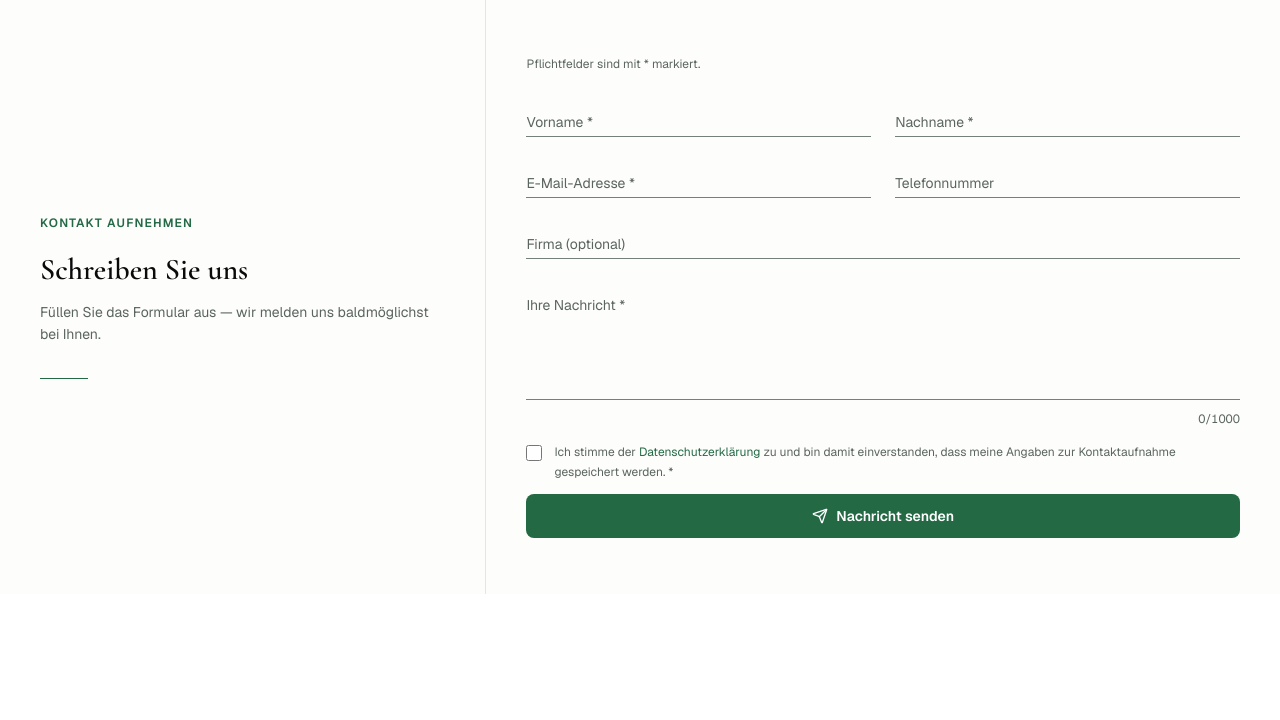
Test case: ContactForm › shows consent validation error when checkbox is unchecked
The width and height of the screenshot is (1280, 720).
Type "Anna" into the field labelled "Vorname *".
click(699, 116); type("Anna")  # box [526,96,871,137]
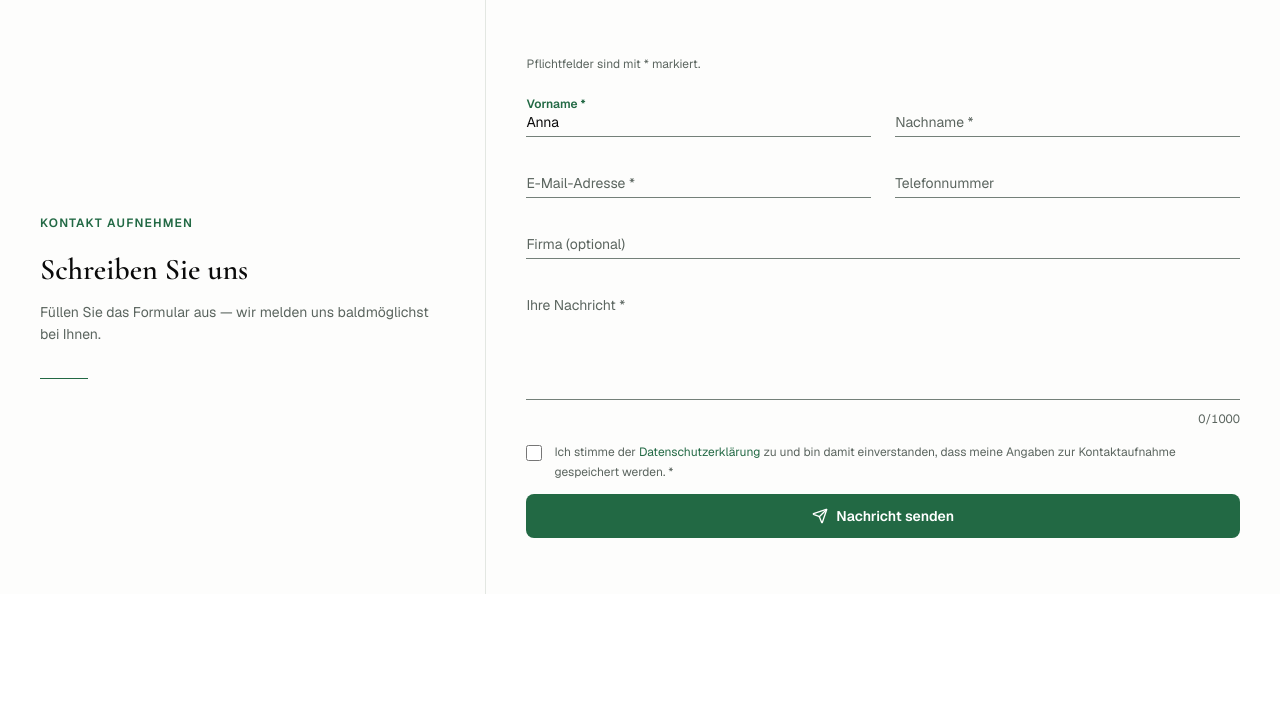
Type "Müller" into the field labelled "Nachname *".
click(1068, 116); type("Müller")  # box [895,96,1240,137]
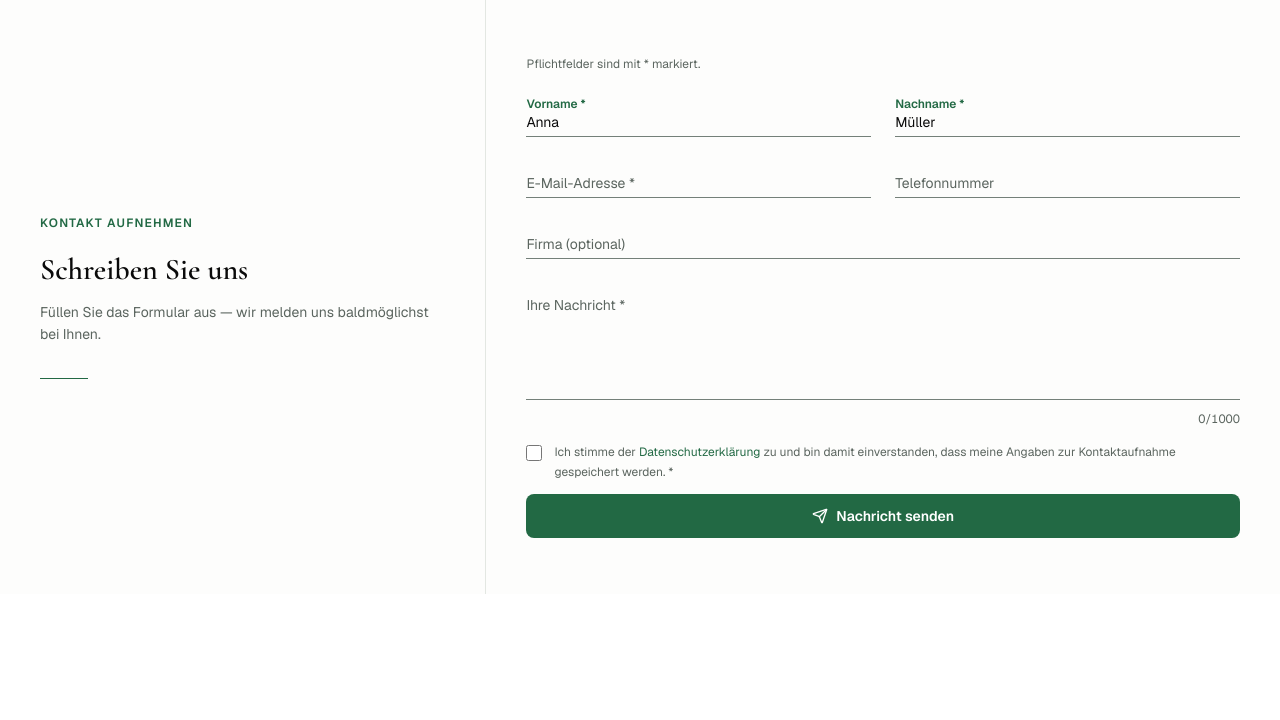
Type "anna@example.de" into the field labelled "E-Mail-Adresse *".
click(699, 178); type("anna@example.de")  # box [526,157,871,198]
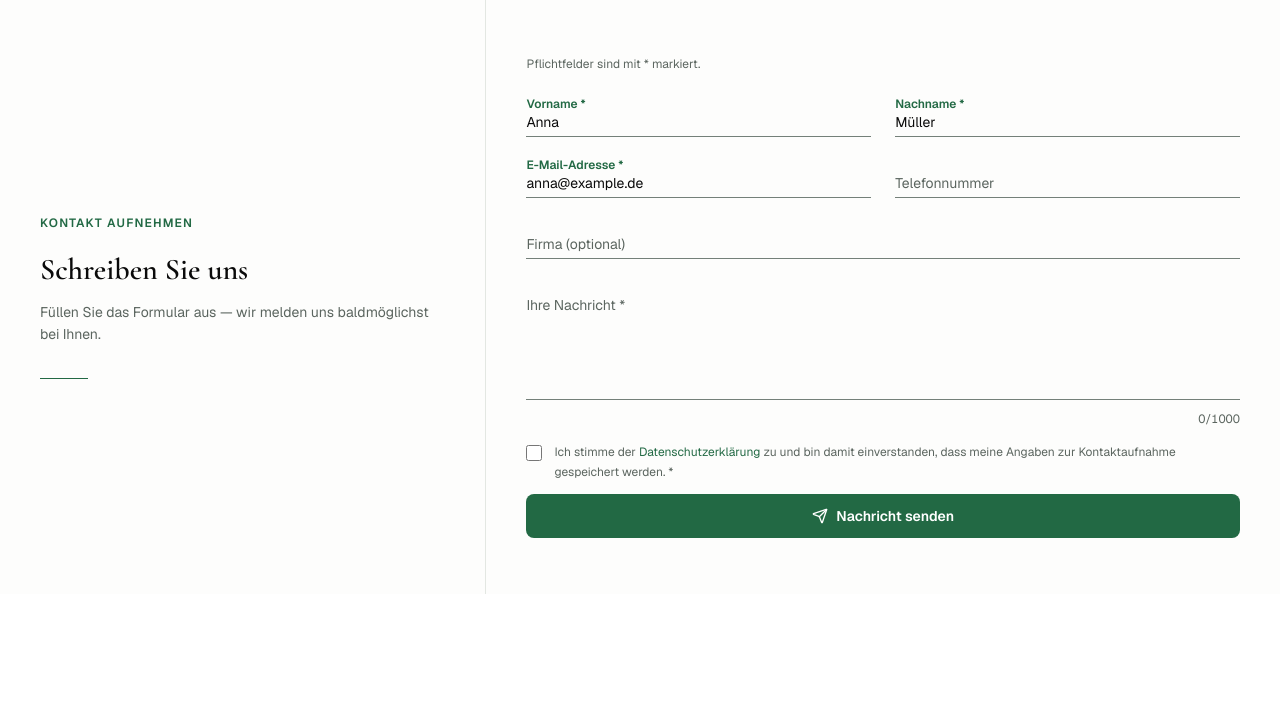
Type "+49123456789" into the field labelled "Telefonnummer".
click(1068, 178); type("+49123456789")  # box [895,157,1240,198]
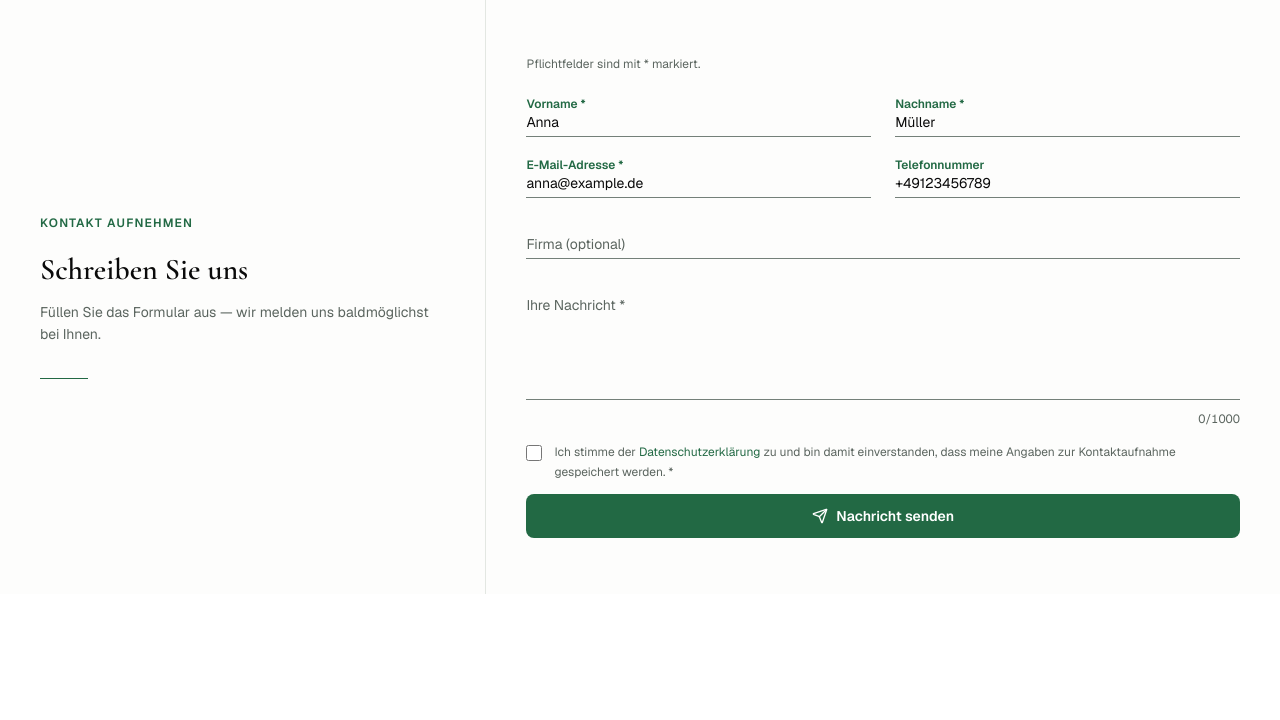
Type "Das ist meine Testnachricht für das Formular." into the text box labelled "Ihre Nachricht *".
click(883, 340); type("Das ist meine Testnachricht für das Formular.")  # box [526,279,1240,400]
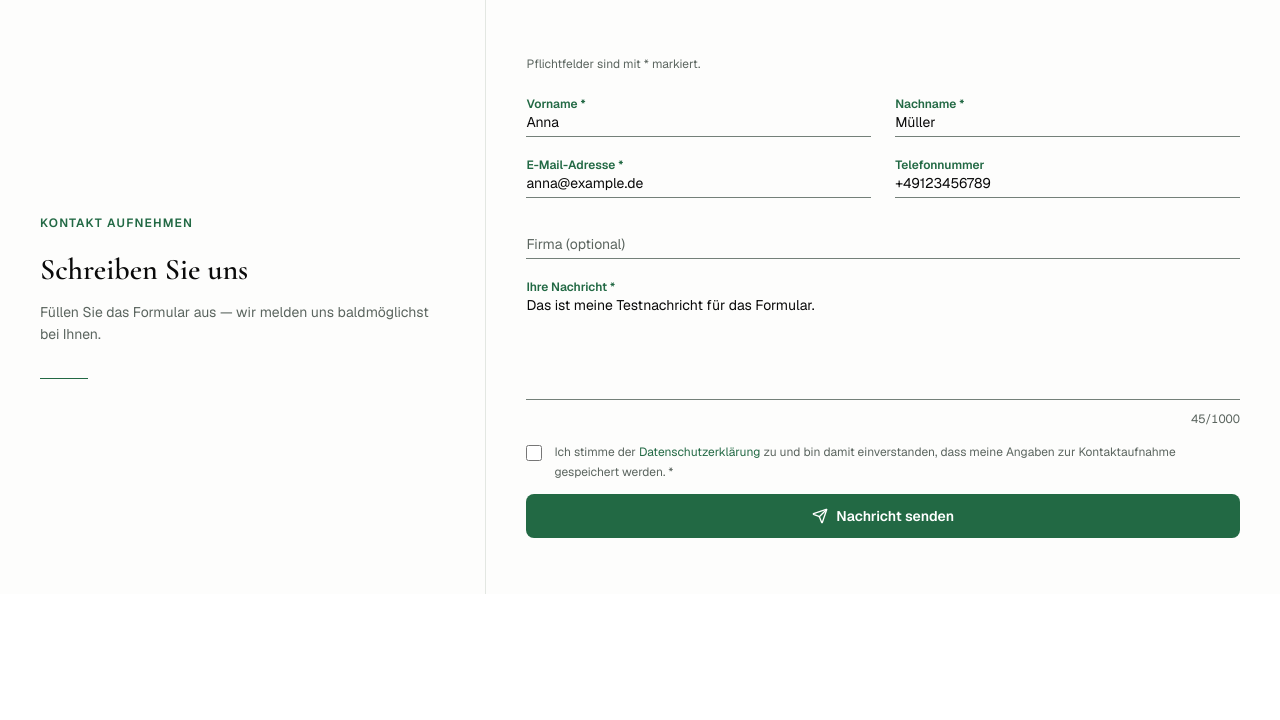
Click the button "Nachricht senden".
click(883, 516)  # box [526,494,1240,538]
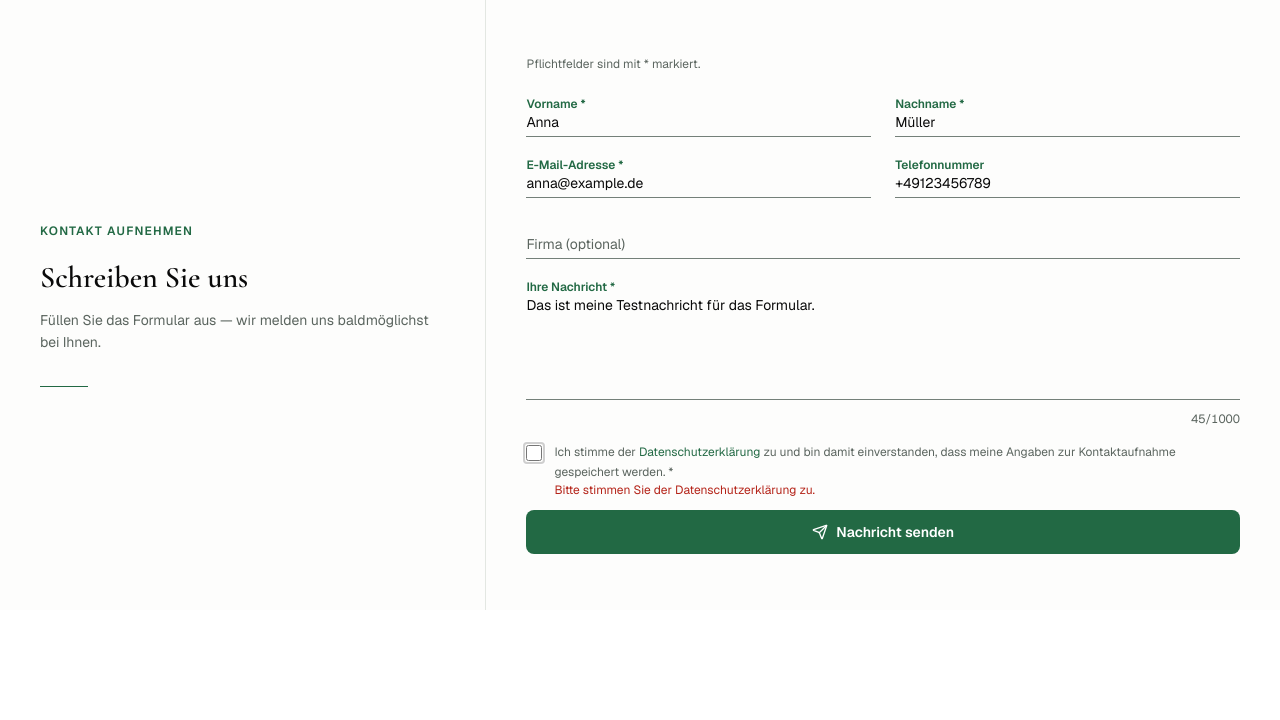
Expected: the text "Bitte stimmen Sie der Datenschutzerklärung zu." is shown, [554,482,815,498]
